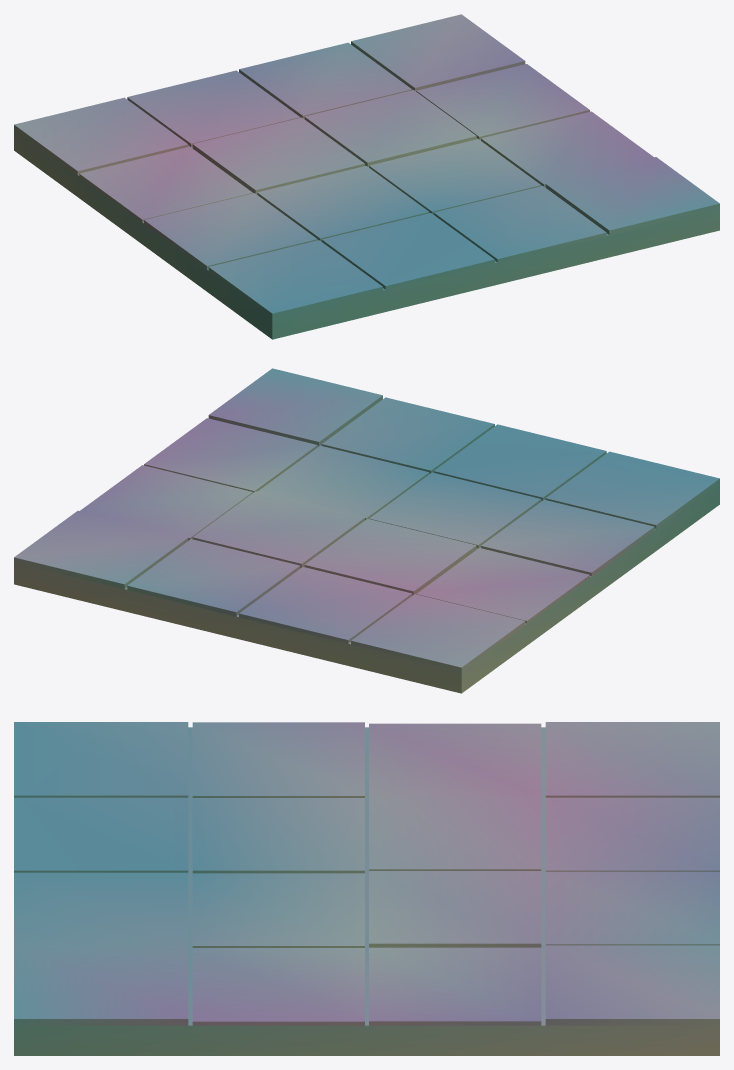
File: floor_4x4.glb
The picture shows the model from 3 angles, top to bottom: view 1: azimuth 30°, elevation 25°; view 2: azimuth 150°, elevation 25°; view 3: azimuth 270°, elevation 25°; orthographic projection. The views are drawn at different scales.
Visible parts, largest first — view 1: floor_4x4; view 2: floor_4x4; view 3: floor_4x4.
Boxes of the visible parts, <box> form: floor_4x4: <box>14,14,719,339</box>; floor_4x4: <box>14,368,719,693</box>; floor_4x4: <box>14,722,719,1055</box>.
Size of the model in its own units: 4 by 0.2311 by 4.
